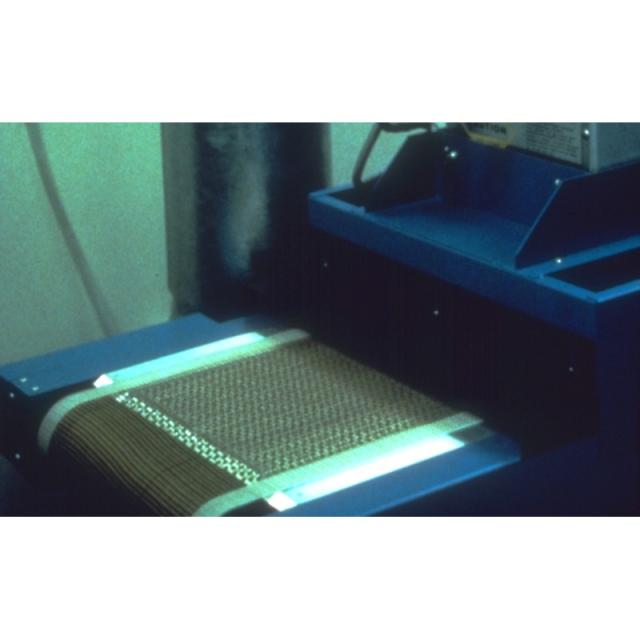conveyor: (0, 179, 633, 550)
